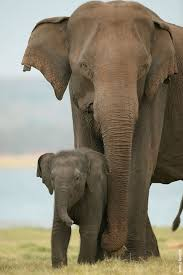Elephant: (22, 148, 113, 269)
